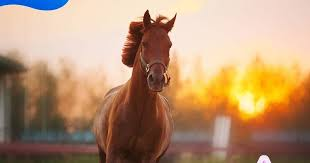horse: (90, 11, 178, 163)
